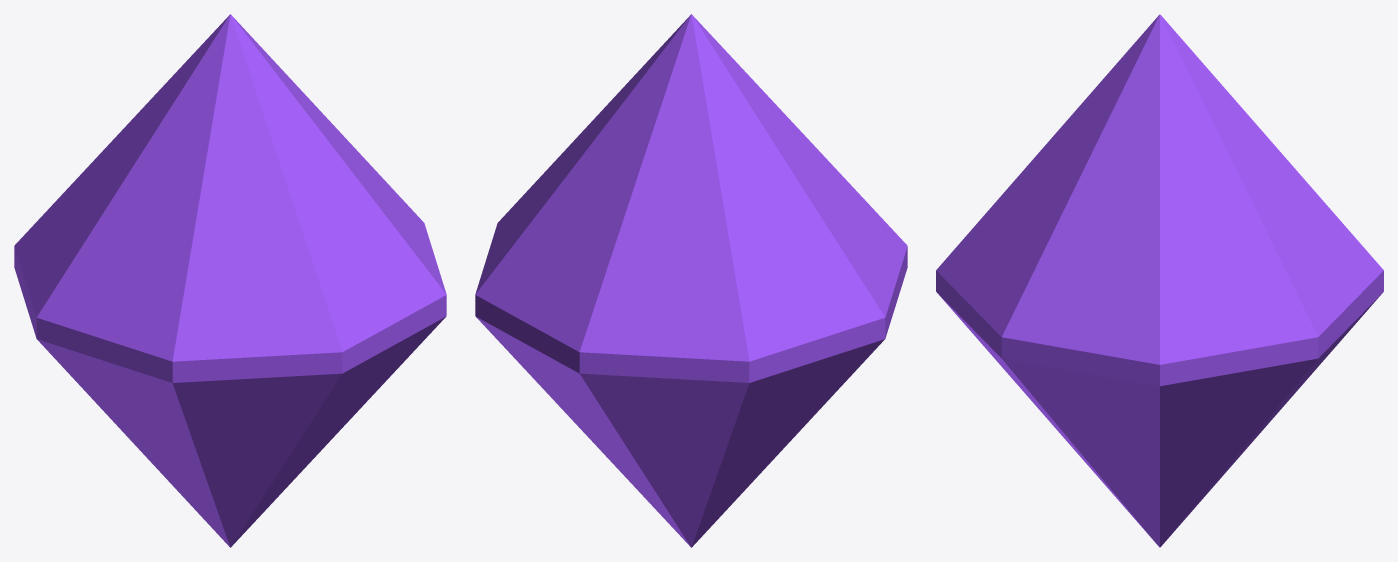
File: Gema_Epico.fbx
3 renders of one model, left to right at view 1: azimuth 30°, elevation 25°; view 2: azimuth 150°, elevation 25°; view 3: azimuth 270°, elevation 25°, orthographic.
Parts seen in each view (by area): view 1: Gema_Epico; view 2: Gema_Epico; view 3: Gema_Epico.
Boxes of the visible parts, left/top/right/bottom form: Gema_Epico: left=14, top=14, right=446, bottom=547; Gema_Epico: left=475, top=14, right=907, bottom=547; Gema_Epico: left=936, top=14, right=1383, bottom=547.
Size of the model in its own units: 0.4256 by 0.56 by 0.4256.
